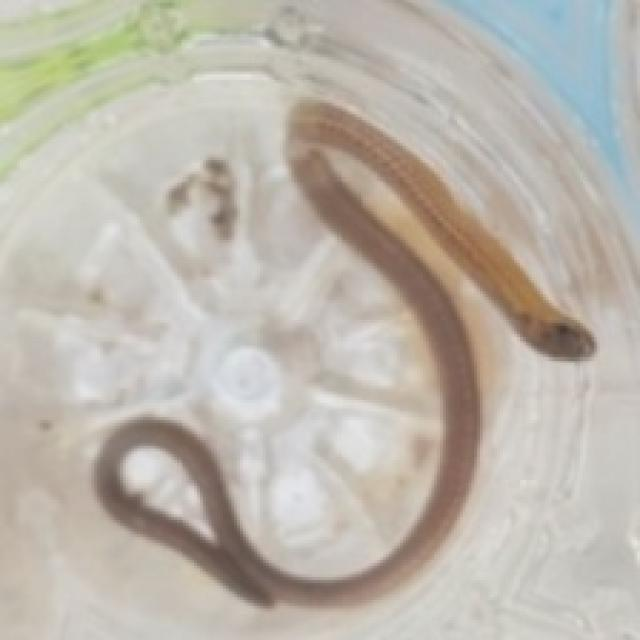gervais worm snake: (94, 100, 591, 603)
